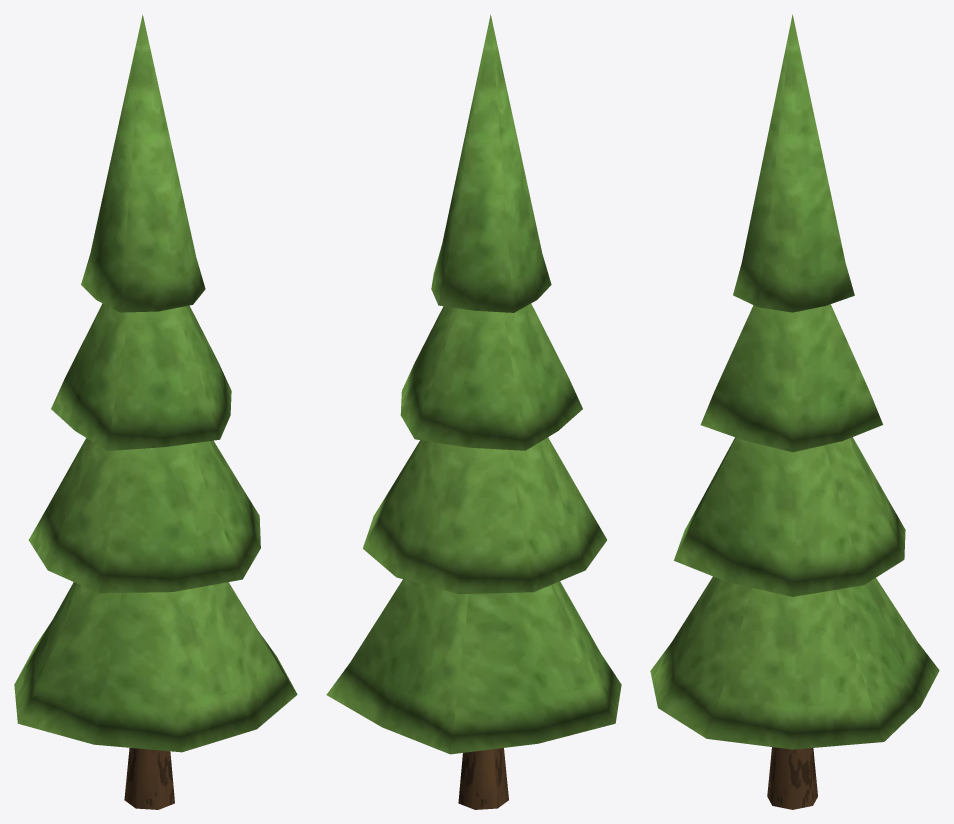
Rendered from tree.pine.glb.
The picture shows the model from 3 angles, left to right: view 1: azimuth 30°, elevation 25°; view 2: azimuth 150°, elevation 25°; view 3: azimuth 270°, elevation 25°; orthographic projection.
Parts seen in each view (by area): view 1: crown, scenery.tree.pine.mesh; view 2: crown, scenery.tree.pine.mesh; view 3: crown, scenery.tree.pine.mesh.
Boxes of the visible parts, bbox=[...] form: crown: bbox=[14, 14, 297, 752]; scenery.tree.pine.mesh: bbox=[124, 748, 174, 809]; crown: bbox=[326, 14, 621, 754]; scenery.tree.pine.mesh: bbox=[458, 748, 508, 809]; crown: bbox=[650, 14, 939, 749]; scenery.tree.pine.mesh: bbox=[767, 747, 817, 809].
Size of the model in its own units: 2.05 by 5.95 by 2.
2 materials, 2 textured.
